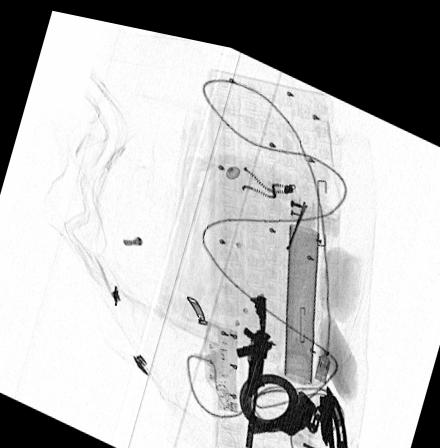Gun: (237, 283, 274, 438)
HandCuffs: (236, 360, 351, 448)
